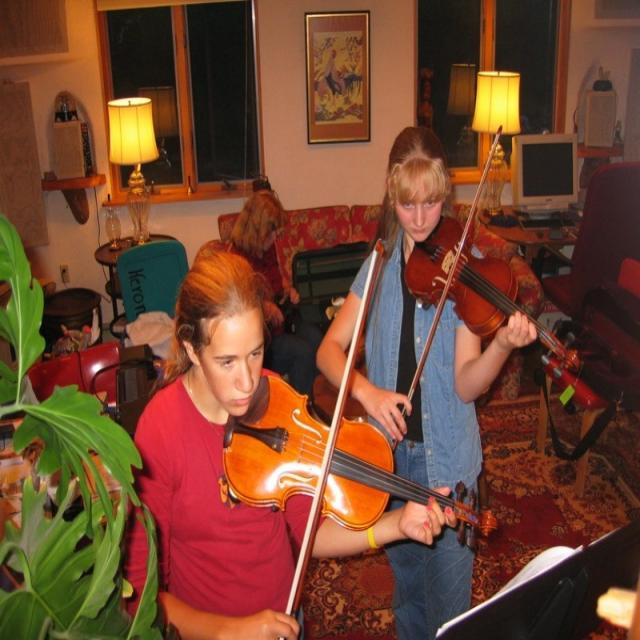violin: (219, 371, 501, 550), (403, 217, 586, 379)
